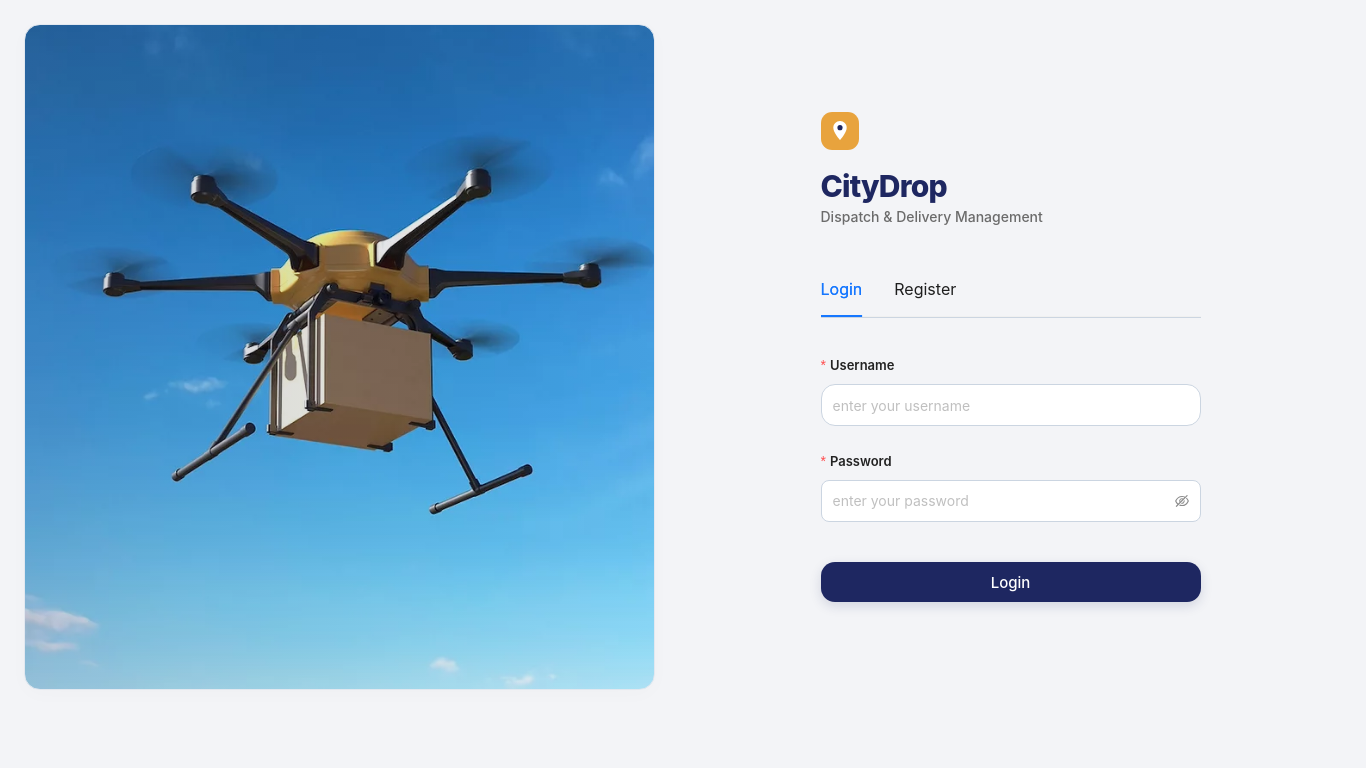
Test: switches to the Register tab and relabels the submit button
What coordinates should you click on to do the following:
click the tab "Register"
I would click on:
 (925, 289)
Its box is [894,277,956,301].
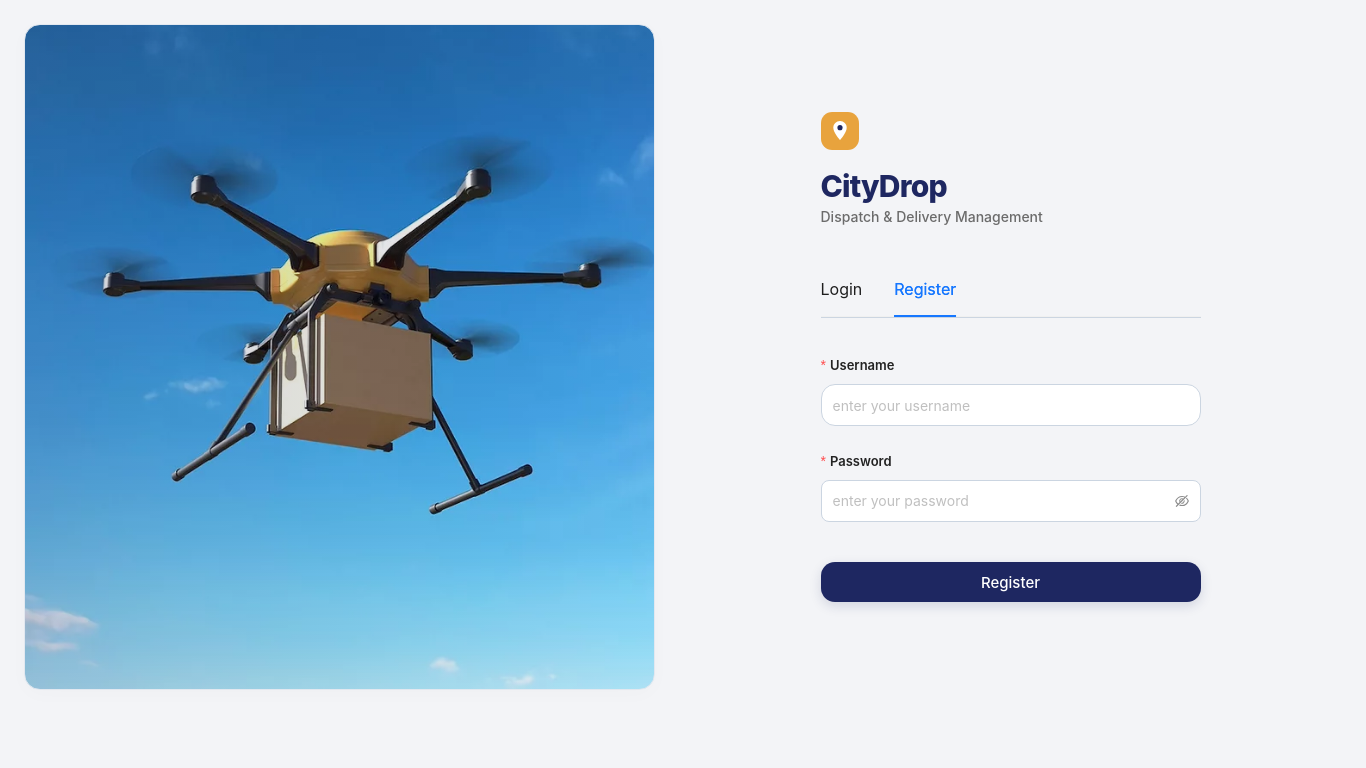
Check: the button "Register" is shown, box [820,562,1200,602]
